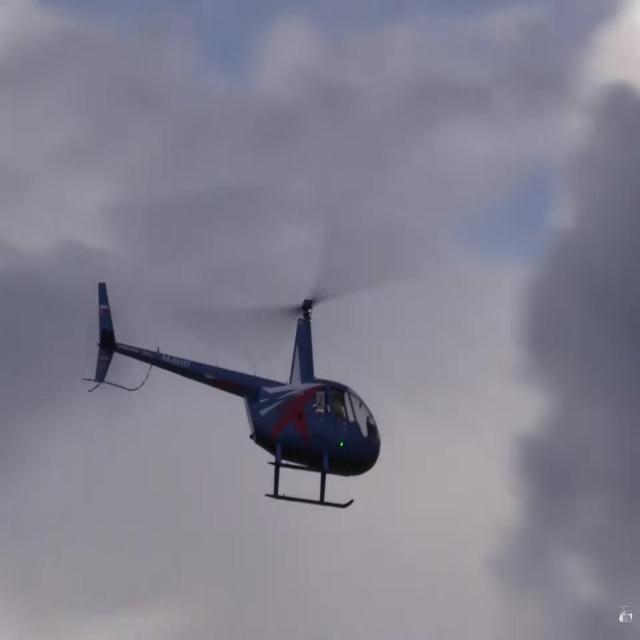CIV_HELO: (95, 281, 383, 510)
